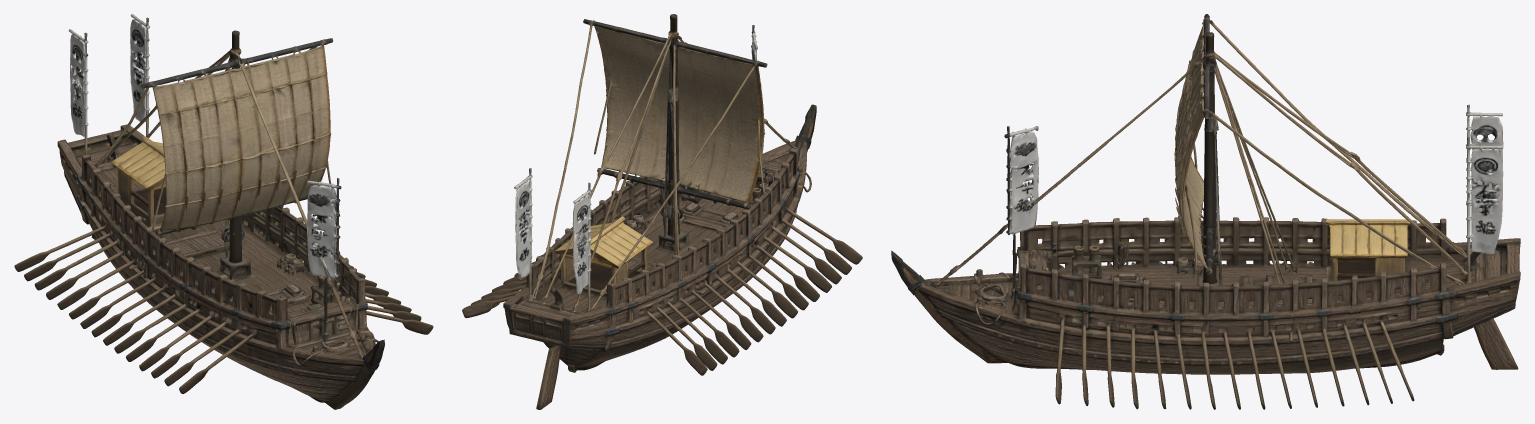
Rendered from sekibune_v2.glb.
3 views of the same model, side by side, from view 1: azimuth 30°, elevation 25°; view 2: azimuth 150°, elevation 25°; view 3: azimuth 270°, elevation 25° (orthographic). The views are drawn at different scales.
Visible parts, largest first — view 1: tripo_node_8296add7-7248-4e58-8521-8ef38d7d1bdd; view 2: tripo_node_8296add7-7248-4e58-8521-8ef38d7d1bdd; view 3: tripo_node_8296add7-7248-4e58-8521-8ef38d7d1bdd.
Boxes of the visible parts, x1,y1,x2,y2 form: tripo_node_8296add7-7248-4e58-8521-8ef38d7d1bdd: (14, 14, 433, 409); tripo_node_8296add7-7248-4e58-8521-8ef38d7d1bdd: (462, 14, 862, 409); tripo_node_8296add7-7248-4e58-8521-8ef38d7d1bdd: (891, 14, 1520, 409).
Size of the model in its own units: 0.5127 by 0.5765 by 0.9793.
1 material, 1 textured.
